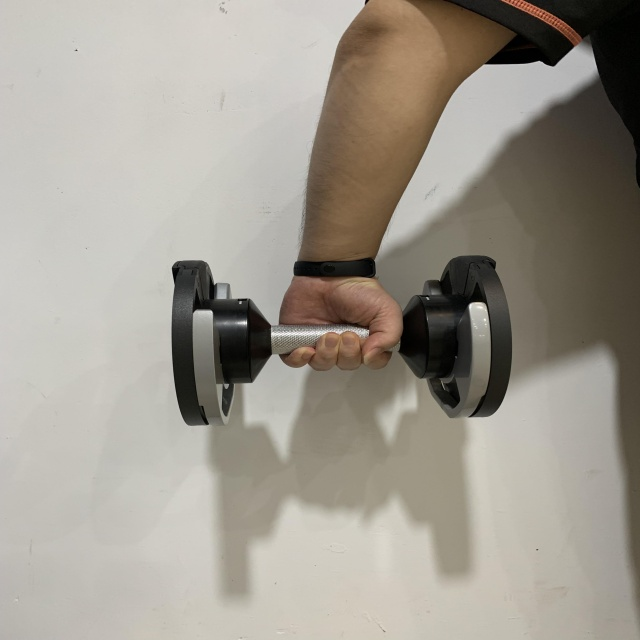02-4kg: (169, 257, 513, 425)
